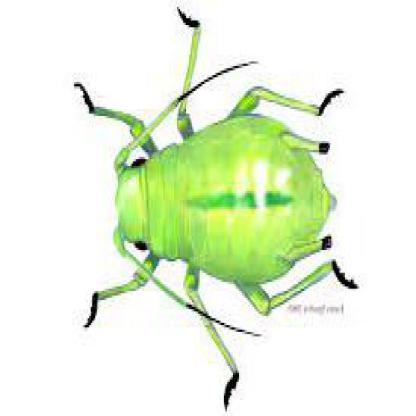schizaphis graminum: (77, 8, 340, 376)
